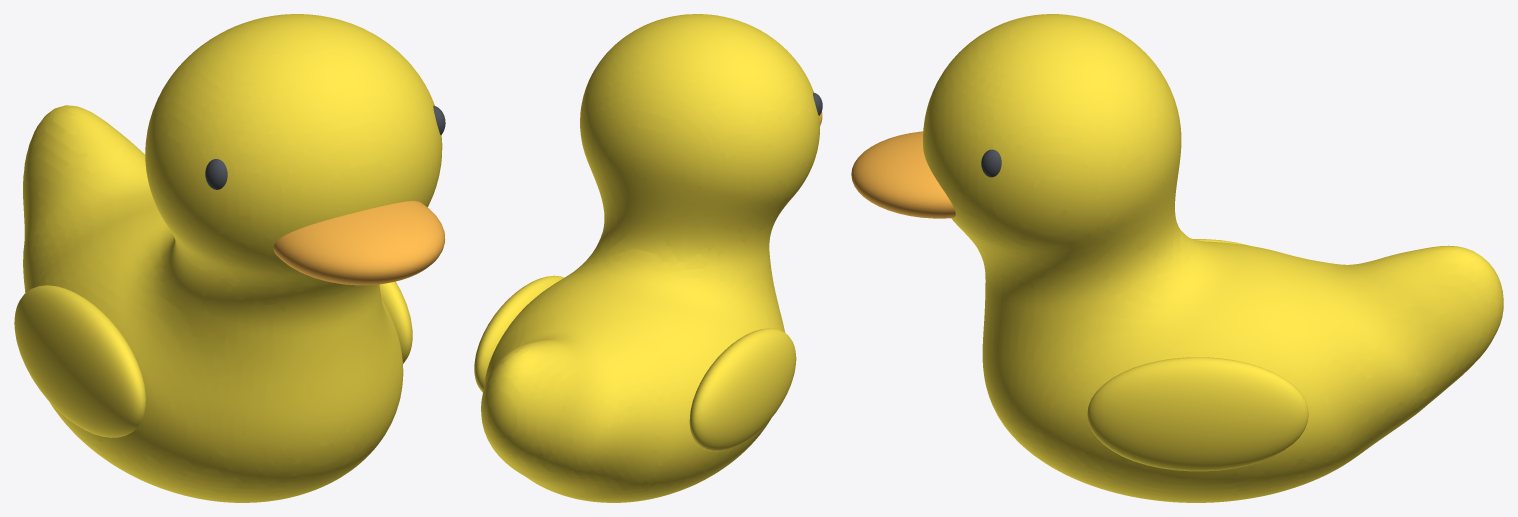
The model's file is duck_02_round_head.glb.
The picture shows the model from 3 angles, left to right: view 1: azimuth 30°, elevation 25°; view 2: azimuth 150°, elevation 25°; view 3: azimuth 270°, elevation 25°; orthographic projection. The views are drawn at different scales.
Parts seen in each view (by area): view 1: Body, Wing_Left, Beak, Wing_Right, Eye_Left; view 2: Body, Wing_Left, Wing_Right; view 3: Body, Wing_Right, Beak.
Part boxes in pixels (box(x1,y1,x2,y2)): Body: box(23, 14, 442, 502); Wing_Left: box(14, 285, 145, 437); Beak: box(273, 201, 445, 285); Wing_Right: box(379, 281, 412, 363); Eye_Left: box(205, 159, 227, 189); Body: box(481, 14, 819, 502); Wing_Left: box(689, 328, 796, 451); Wing_Right: box(474, 275, 564, 392); Body: box(923, 14, 1503, 502); Wing_Right: box(1087, 357, 1308, 471); Beak: box(851, 131, 955, 218).
Size of the model in its own units: 0.9 by 1.36 by 1.76.
